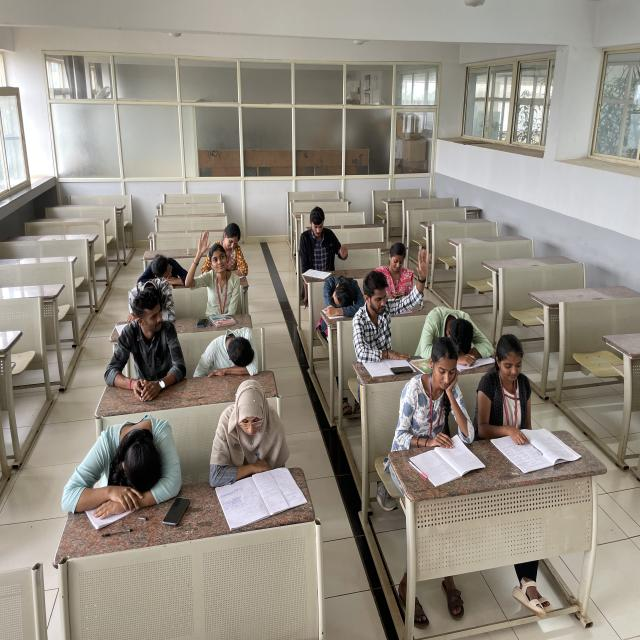Hand Rising: (351, 245, 429, 379), (183, 227, 242, 321)
Reading: (388, 334, 477, 476), (207, 373, 298, 508), (476, 333, 544, 458), (296, 206, 346, 283)
Sleeping: (58, 410, 188, 523), (190, 325, 268, 385), (414, 306, 492, 360), (320, 270, 364, 322), (132, 251, 189, 290)
